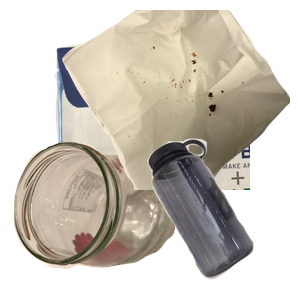glass: (11, 139, 179, 300)
paper: (52, 34, 292, 214)
plastic: (145, 136, 300, 300)
trash: (60, 10, 300, 190)
